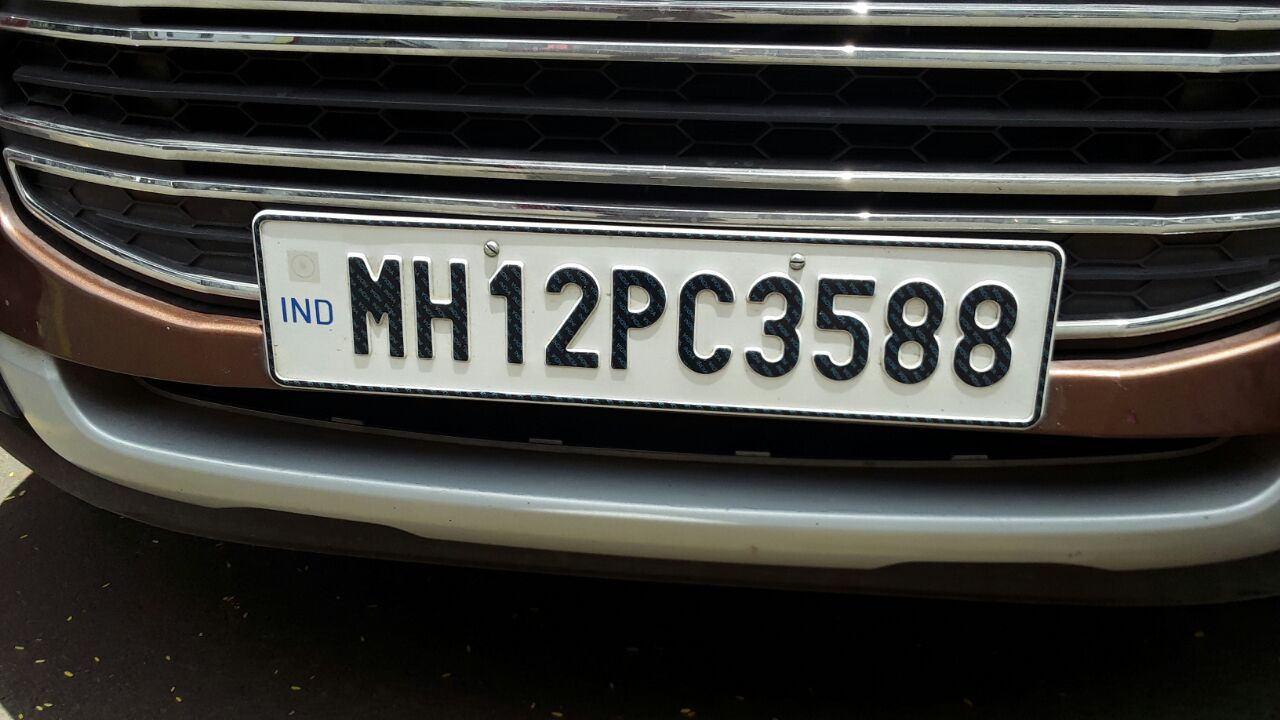licenseplate: (240, 196, 1073, 437)
